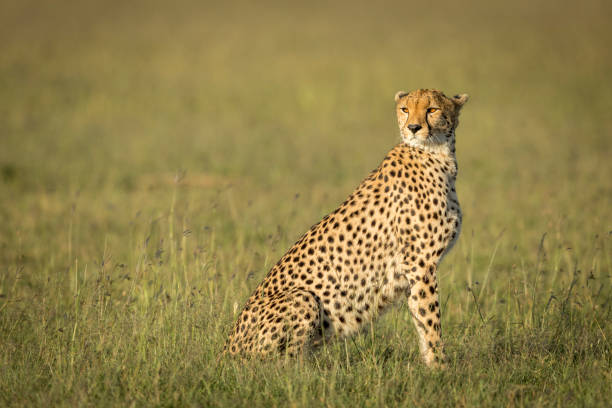cheetah: (382, 83, 474, 150)
